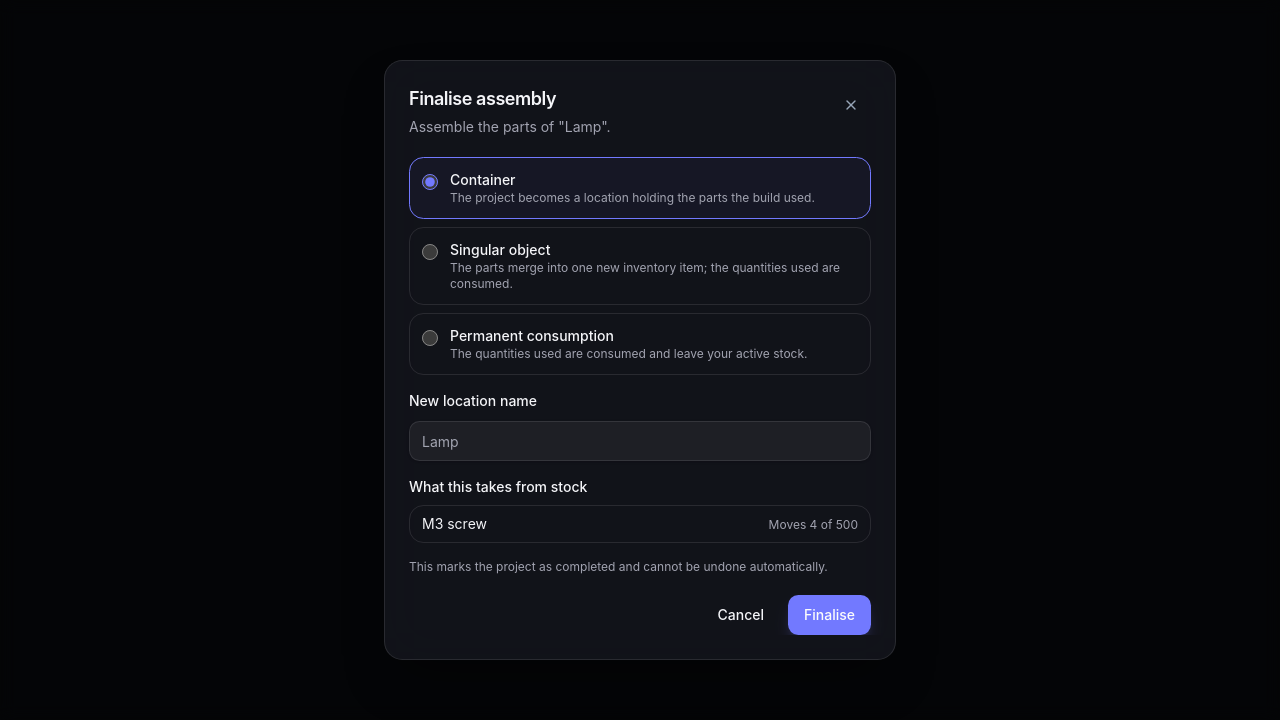
it: FinaliseAssemblyDialog (issue #647) › switches to consumption wording for the outcomes that consume
Click the radio button labelled "Permanent consumption".
click(430, 338)  # box [422,330,438,346]
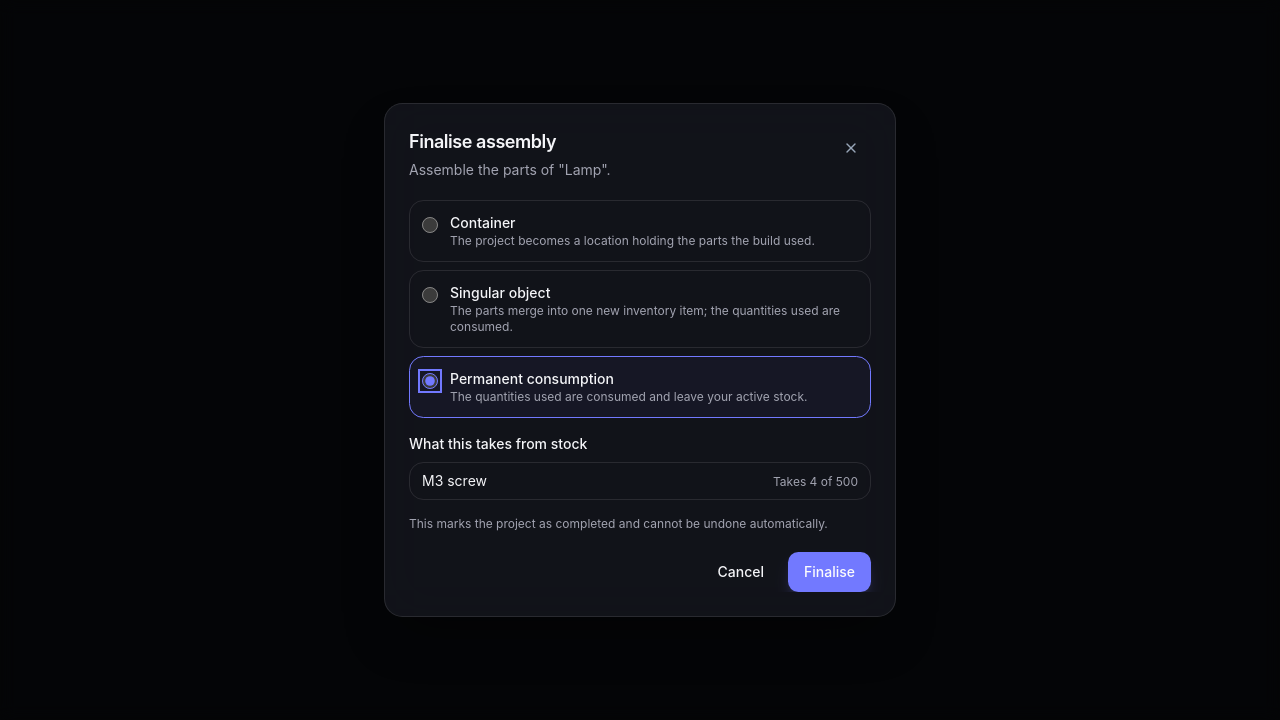
Expected: the text "Takes 4 of 500" is shown, [773,474,858,490]
